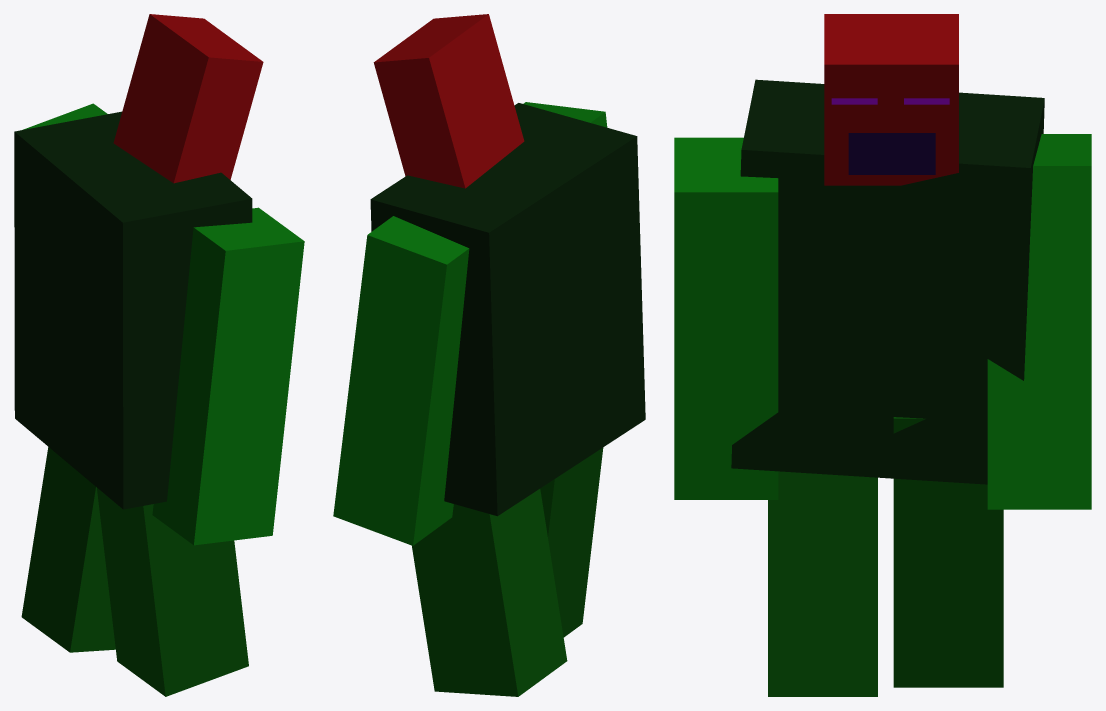
File: walk_000028.obj
3 renders of one model, left to right at view 1: azimuth 30°, elevation 25°; view 2: azimuth 150°, elevation 25°; view 3: azimuth 270°, elevation 25°, orthographic. The views are drawn at different scales.
Visible parts, largest first — view 1: Cube, leg.002_Cube.006, leg.001_Cube.007, Cube.001_Cube.003, leg_Cube.001, leg.003_Cube.002; view 2: Cube, leg.003_Cube.002, leg_Cube.001, Cube.001_Cube.003, leg.001_Cube.007, leg.002_Cube.006; view 3: Cube, leg.002_Cube.006, leg.003_Cube.002, leg.001_Cube.007, leg_Cube.001, Cube.001_Cube.003, Plane.002.
Part boxes in pixels (bbox=[...]): Cube: bbox=[14, 111, 252, 509]; leg.002_Cube.006: bbox=[152, 207, 304, 545]; leg.001_Cube.007: bbox=[96, 487, 248, 696]; Cube.001_Cube.003: bbox=[113, 14, 263, 183]; leg_Cube.001: bbox=[21, 447, 115, 652]; leg.003_Cube.002: bbox=[23, 103, 107, 129]; Cube: bbox=[370, 103, 645, 516]; leg.003_Cube.002: bbox=[333, 216, 469, 545]; leg_Cube.001: bbox=[412, 489, 567, 696]; Cube.001_Cube.003: bbox=[373, 14, 524, 188]; leg.001_Cube.007: bbox=[540, 447, 603, 637]; leg.002_Cube.006: bbox=[523, 102, 607, 127]; Cube: bbox=[731, 79, 1044, 484]; leg.002_Cube.006: bbox=[674, 137, 778, 499]; leg.003_Cube.002: bbox=[987, 134, 1091, 509]; leg.001_Cube.007: bbox=[768, 471, 877, 696]; leg_Cube.001: bbox=[893, 417, 1003, 687]; Cube.001_Cube.003: bbox=[824, 14, 958, 185]; Plane.002: bbox=[848, 133, 935, 174].
Bounding box in the file's own units: 1.9 × 6.3 × 3.47.
